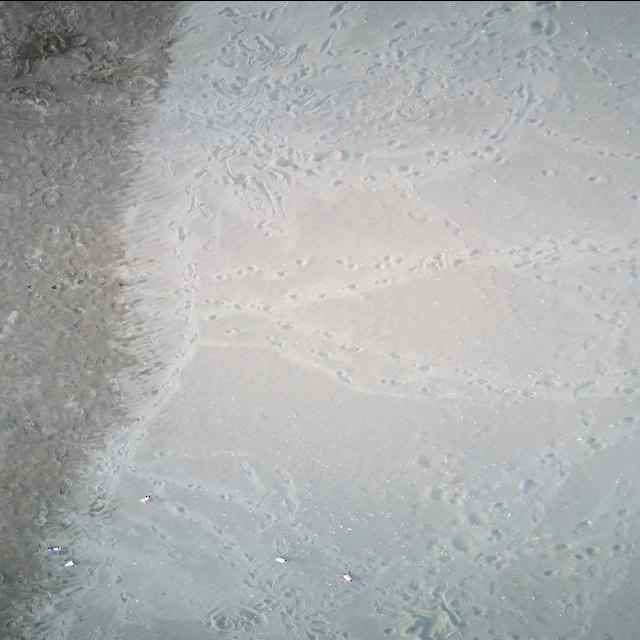Garbage: (340, 572, 352, 580), (48, 546, 60, 552), (65, 560, 75, 567), (140, 495, 150, 502), (275, 556, 286, 562)
